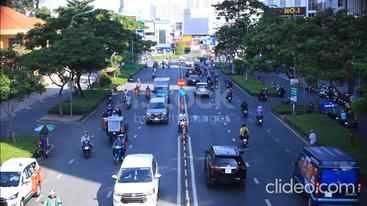car: (285, 140, 367, 206), (105, 148, 165, 206), (198, 144, 251, 199), (0, 151, 51, 206), (143, 95, 172, 131)
motorcycle: (107, 115, 122, 147), (175, 110, 193, 135), (80, 131, 94, 161), (110, 143, 127, 165), (238, 127, 252, 148), (240, 103, 253, 121), (255, 110, 265, 128), (101, 116, 109, 135)
truck: (152, 76, 170, 104)
